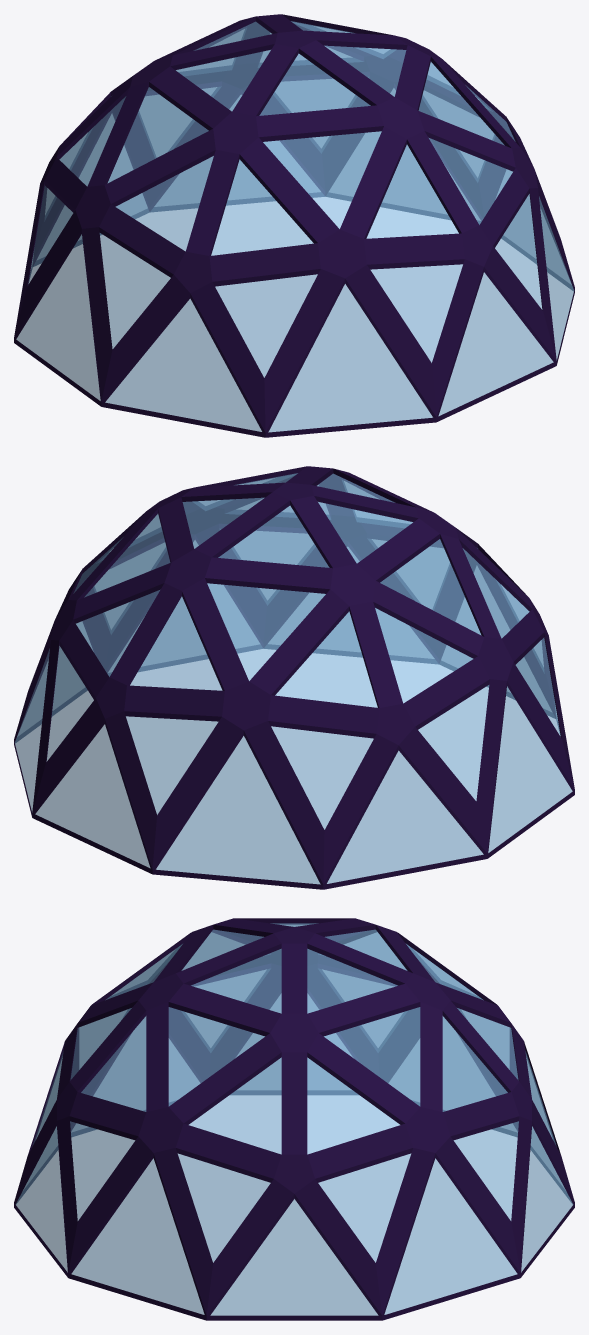
Rendered from dome.fbx.
3 views of the same model, one above another, from view 1: azimuth 30°, elevation 25°; view 2: azimuth 150°, elevation 25°; view 3: azimuth 270°, elevation 25° (orthographic). The views are drawn at different scales.
Visible parts, largest first — view 1: Icosphere; view 2: Icosphere; view 3: Icosphere.
Part boxes in pixels (x1,y1,x2,y2): Icosphere: (14,14,574,437); Icosphere: (14,466,574,889); Icosphere: (14,918,574,1320).
Bounding box in the file's own units: 193 × 109 × 203.
